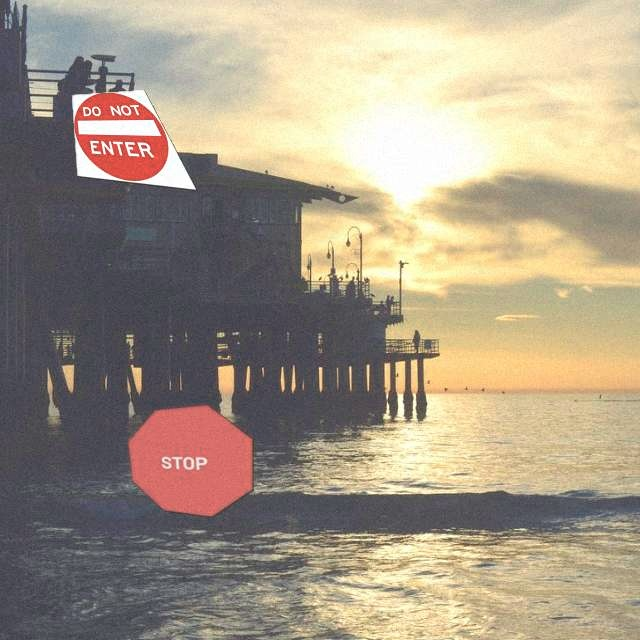DO_NOT_ENTER: (71, 89, 198, 191)
STOP: (127, 404, 254, 518)
